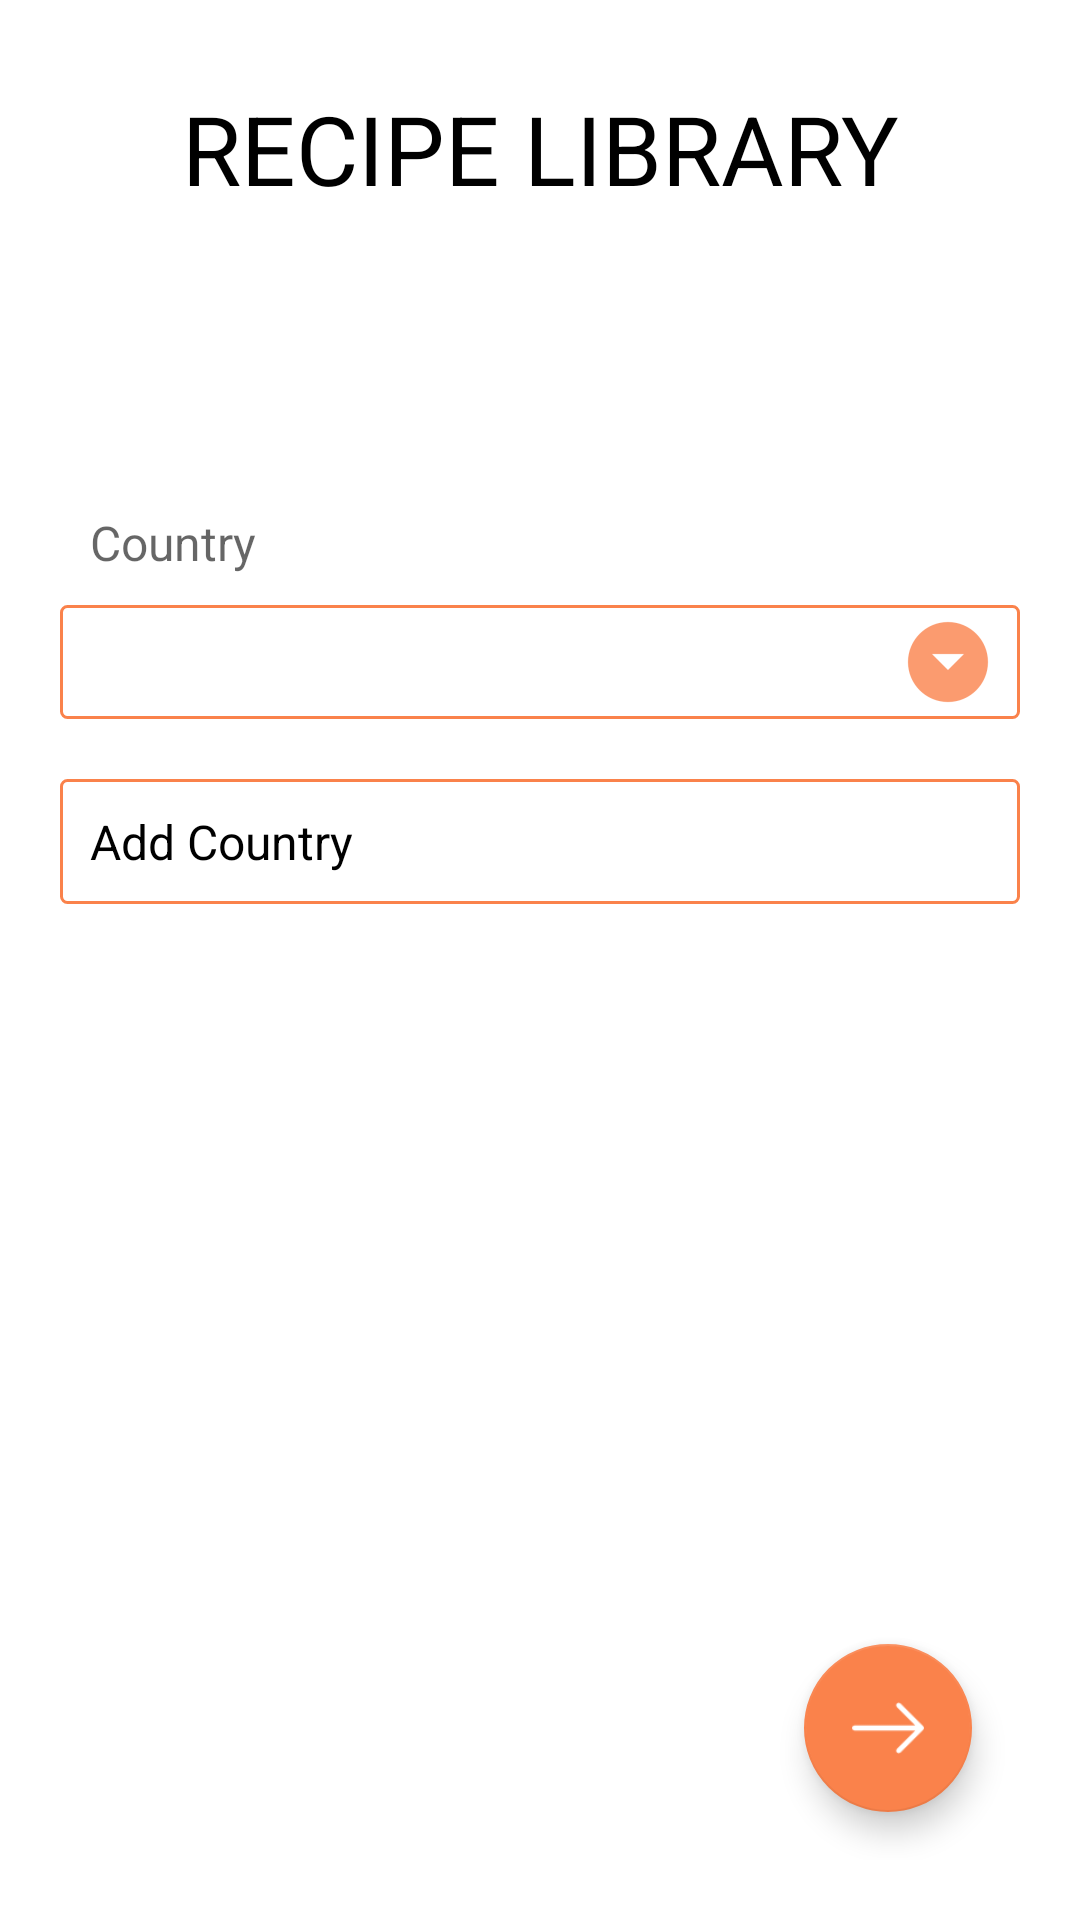

Locate icon controls on the screen. Image size 1080*1920, boxes as detection(x1, y1, x2, y2).
next: detection(804, 1644, 972, 1812)
